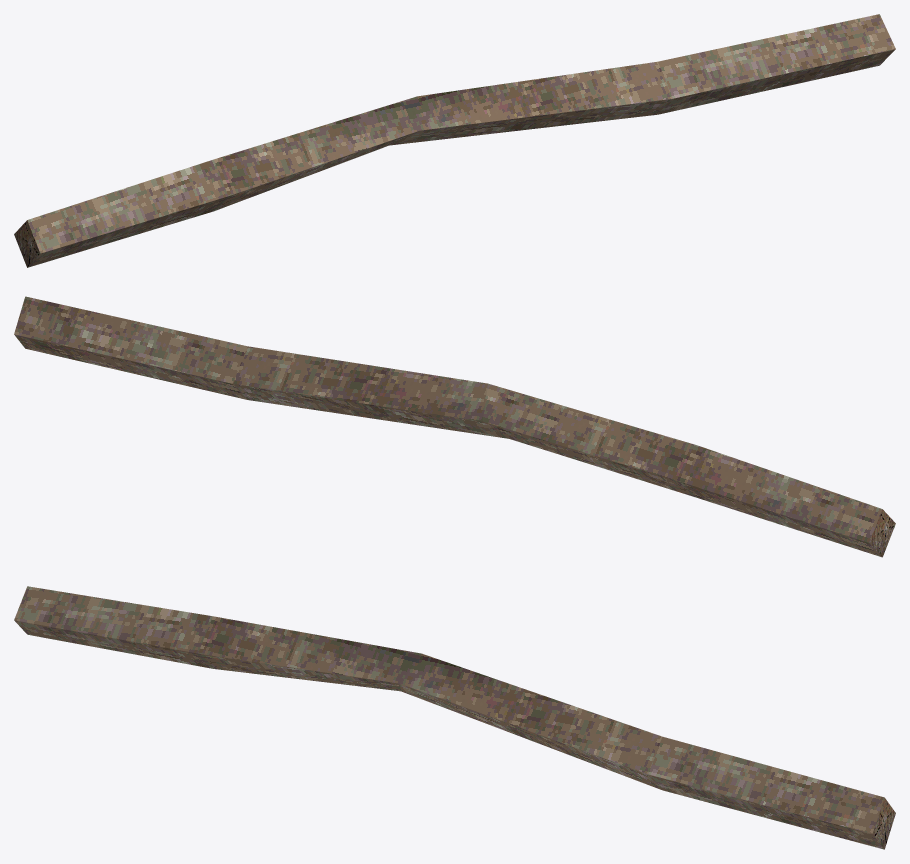
File: wooden_fence_beam_old.glb
3 renders of one model, top to bottom at view 1: azimuth 30°, elevation 25°; view 2: azimuth 150°, elevation 25°; view 3: azimuth 330°, elevation 25°, orthographic.
Visible parts, largest first — view 1: wooden_fence_beam; view 2: wooden_fence_beam; view 3: wooden_fence_beam.
Boxes of the visible parts, left/top/right/bottom form: wooden_fence_beam: left=14, top=14, right=895, bottom=267; wooden_fence_beam: left=14, top=296, right=895, bottom=557; wooden_fence_beam: left=14, top=586, right=895, bottom=849.
Bounding box in the file's own units: 2 × 0.1785 × 0.1281.
Materials: 1 (1 with a texture image).
